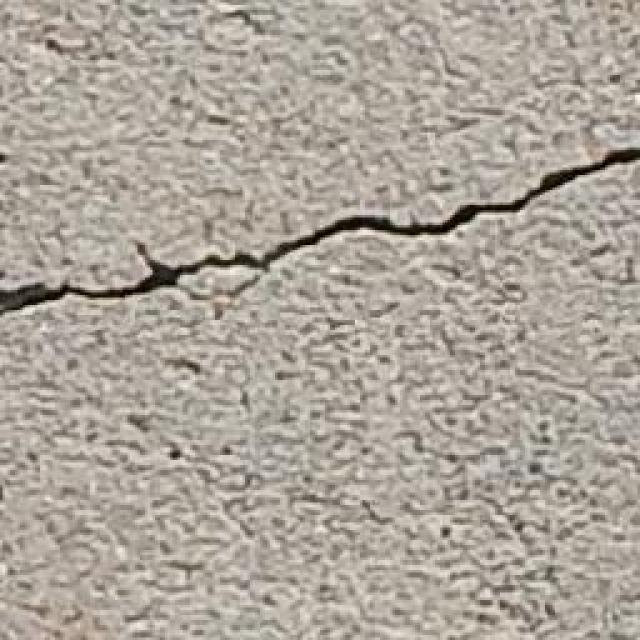concrete-crack: (1, 144, 640, 324)
